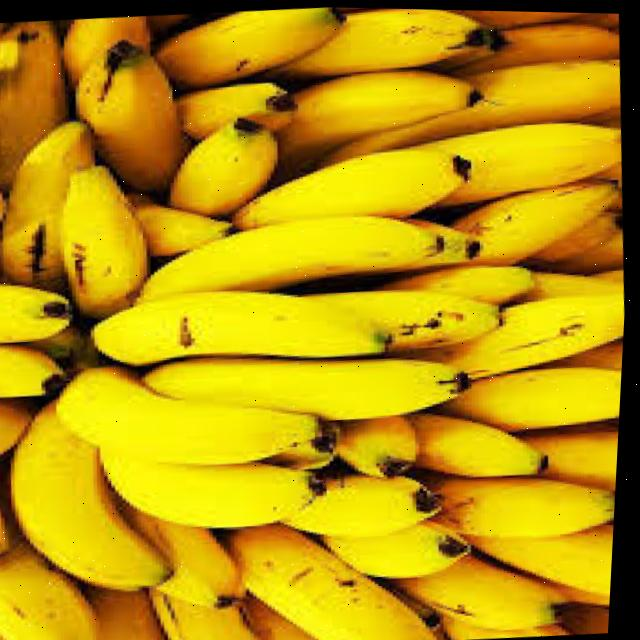Banana: (323, 57, 621, 160), (16, 401, 176, 584), (141, 217, 480, 299), (60, 364, 324, 461), (237, 526, 442, 640), (95, 288, 388, 363), (148, 356, 468, 417), (234, 148, 464, 226), (281, 67, 474, 157), (418, 119, 623, 202), (77, 39, 189, 188), (104, 448, 325, 522), (277, 7, 498, 76), (2, 121, 95, 282), (447, 291, 627, 374), (156, 5, 339, 86), (455, 179, 619, 261), (63, 168, 151, 316), (398, 552, 569, 627), (443, 363, 625, 427), (313, 287, 502, 347), (435, 473, 620, 534), (172, 119, 278, 214), (472, 526, 619, 591), (288, 472, 444, 533), (328, 518, 475, 575), (415, 413, 547, 471), (137, 202, 233, 255), (341, 413, 421, 472), (0, 284, 74, 338), (0, 345, 70, 396)
